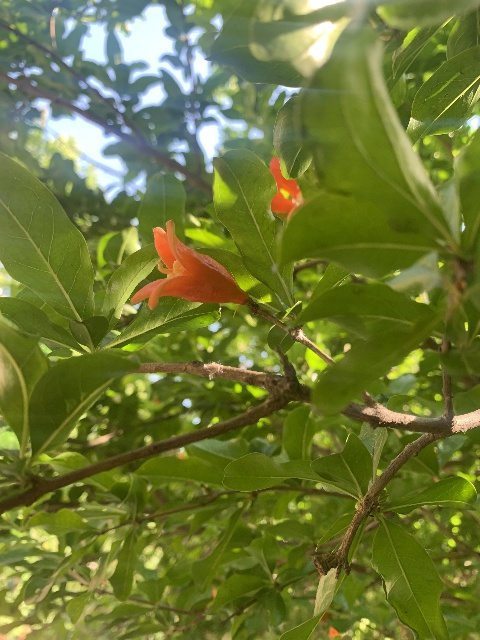flower: (131, 218, 246, 311)
